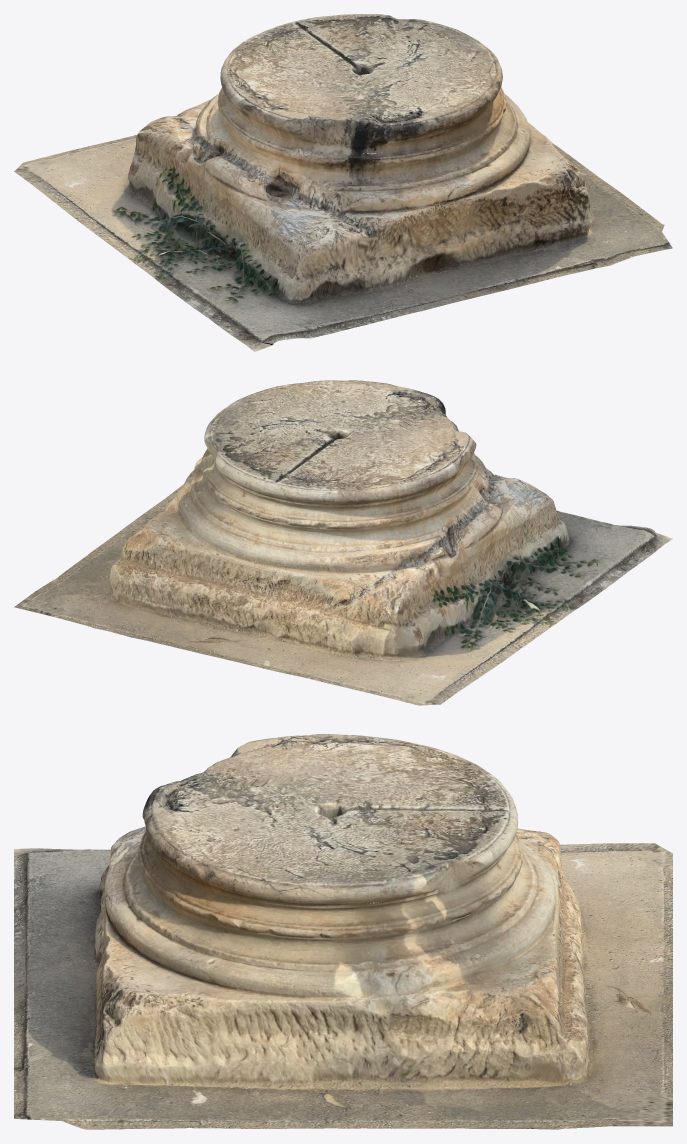
The model's file is roman-column-base-byrsa-hill-carthage.glb.
3 views of the same model, one above another, from view 1: azimuth 30°, elevation 25°; view 2: azimuth 150°, elevation 25°; view 3: azimuth 270°, elevation 25° (orthographic). The views are drawn at different scales.
Parts seen in each view (by area): view 1: Object_2; view 2: Object_2; view 3: Object_2.
Part boxes in pixels (x1=…): Object_2: x1=14, y1=14, x2=672, y2=351; Object_2: x1=14, y1=380, x2=672, y2=705; Object_2: x1=14, y1=734, x2=672, y2=1129.
Size of the model in its own units: 1.86 by 0.5795 by 1.84.
1 material, 1 textured.
